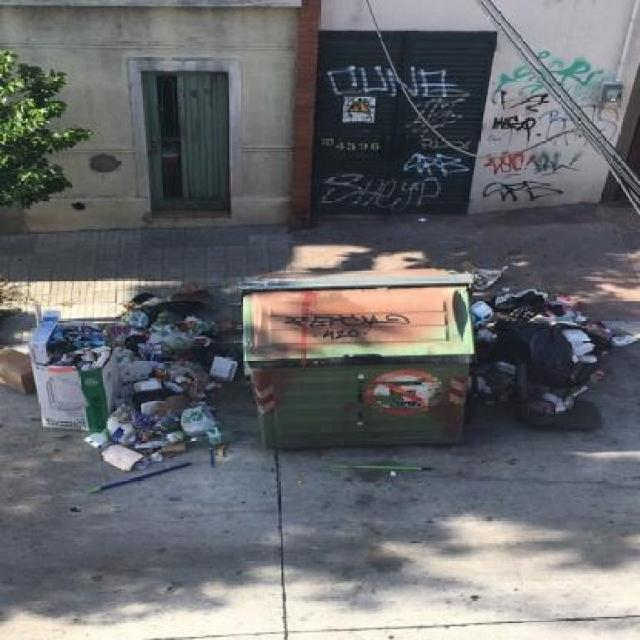garbage: (14, 292, 245, 476), (468, 273, 629, 452), (72, 458, 200, 500), (0, 343, 55, 408), (314, 462, 452, 482)
